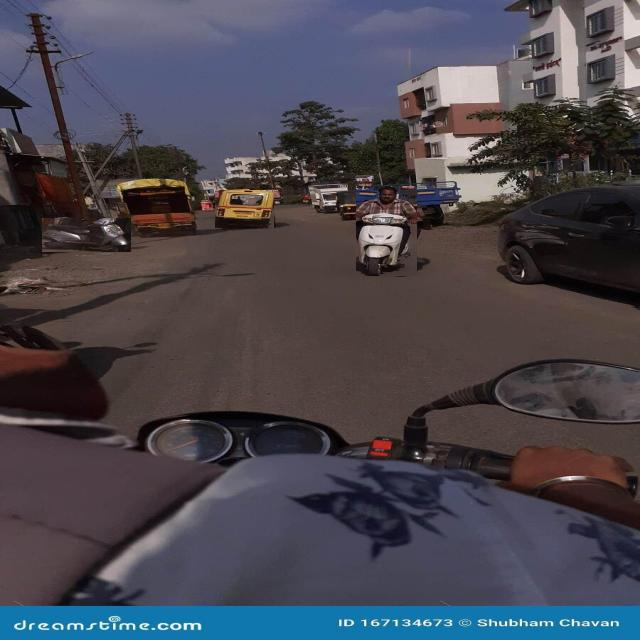car: (216, 190, 274, 228)
motorcycle: (357, 186, 417, 276), (42, 218, 131, 252)
truck: (117, 179, 197, 236), (307, 184, 347, 212)
